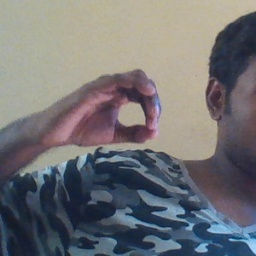O: (49, 70, 164, 144)
